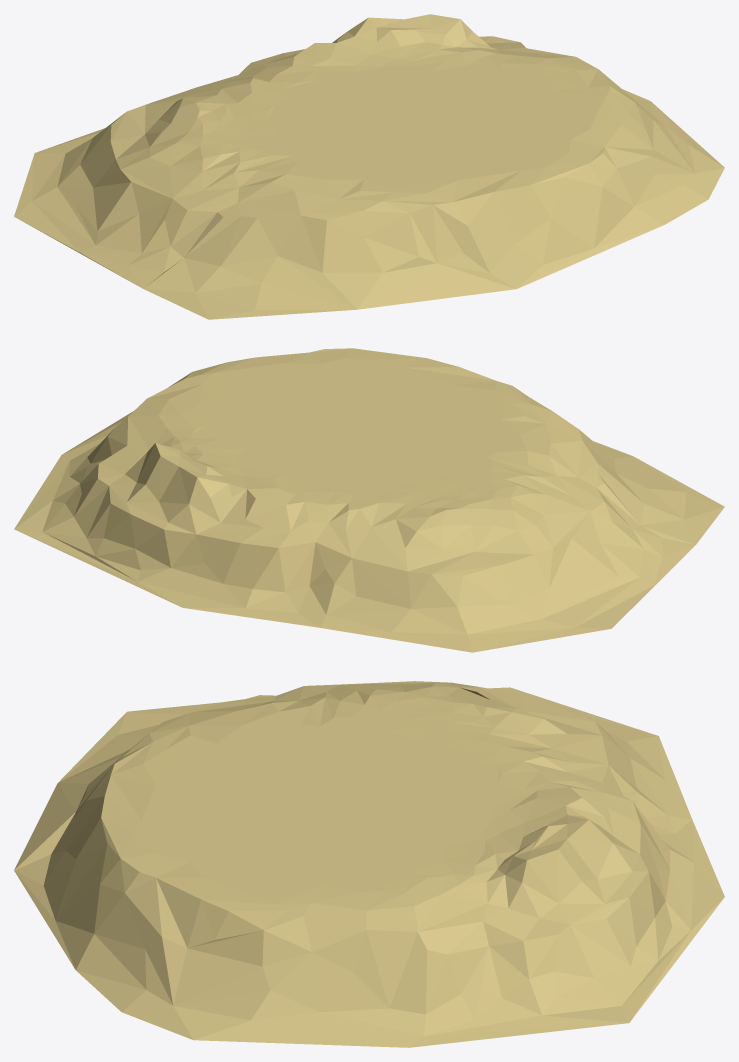
File: TerrainSand_10.fbx
The picture shows the model from 3 angles, top to bottom: view 1: azimuth 30°, elevation 25°; view 2: azimuth 150°, elevation 25°; view 3: azimuth 270°, elevation 25°; orthographic projection. The views are drawn at different scales.
Visible parts, largest first — view 1: TerrainSand_10; view 2: TerrainSand_10; view 3: TerrainSand_10.
Part boxes in pixels (left/top/right/bottom): TerrainSand_10: left=14, top=14, right=724, bottom=319; TerrainSand_10: left=14, top=348, right=724, bottom=652; TerrainSand_10: left=14, top=681, right=724, bottom=1047.
Bounding box in the file's own units: 1612 × 212 × 1343.
